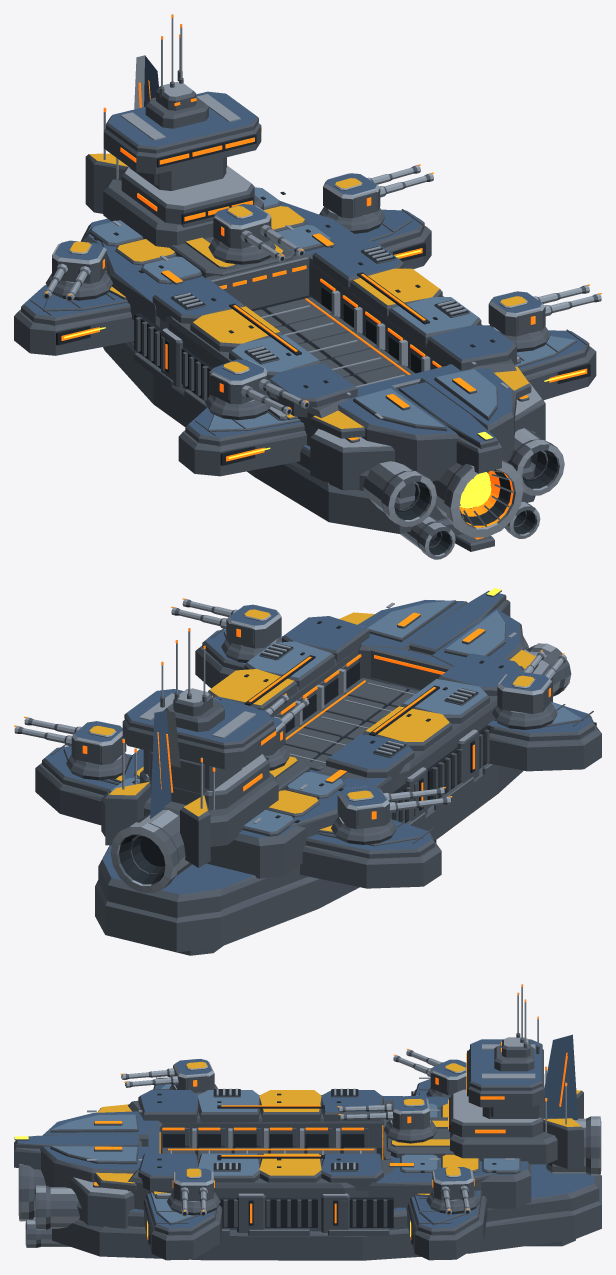
Rendered from nodriza.glb.
3 renders of one model, top to bottom at view 1: azimuth 30°, elevation 25°; view 2: azimuth 150°, elevation 25°; view 3: azimuth 270°, elevation 25°, orthographic. The views are drawn at different scales.
Parts seen in each view (by area): view 1: AEGIS_Hull, AEGIS_Turret_Aft_R, AEGIS_Turret_Forward_R, AEGIS_Turret_Aft_L, AEGIS_Turret_Centre, AEGIS_Turret_Forward_L; view 2: AEGIS_Hull, AEGIS_Turret_Forward_L, AEGIS_Turret_Aft_R, AEGIS_Turret_Forward_R, AEGIS_Turret_Aft_L, AEGIS_Turret_Centre; view 3: AEGIS_Hull, AEGIS_Turret_Centre, AEGIS_Turret_Aft_L, AEGIS_Turret_Forward_L, AEGIS_Turret_Forward_R, AEGIS_Turret_Aft_R.
Boxes of the visible parts, box(x1,y1,x2,y2) form: AEGIS_Hull: box(14, 14, 596, 559); AEGIS_Turret_Aft_R: box(488, 284, 601, 336); AEGIS_Turret_Forward_R: box(323, 164, 433, 218); AEGIS_Turret_Aft_L: box(210, 359, 309, 415); AEGIS_Turret_Centre: box(213, 204, 304, 262); AEGIS_Turret_Forward_L: box(43, 240, 106, 301); AEGIS_Hull: box(35, 588, 601, 955); AEGIS_Turret_Forward_L: box(337, 786, 452, 829); AEGIS_Turret_Aft_R: box(171, 598, 281, 648); AEGIS_Turret_Forward_R: box(14, 716, 126, 764); AEGIS_Turret_Aft_L: box(497, 650, 566, 713); AEGIS_Turret_Centre: box(263, 693, 309, 755); AEGIS_Hull: box(14, 984, 601, 1260); AEGIS_Turret_Centre: box(337, 1095, 429, 1129); AEGIS_Turret_Aft_L: box(120, 1059, 214, 1092); AEGIS_Turret_Forward_L: box(393, 1048, 466, 1095); AEGIS_Turret_Forward_R: box(432, 1167, 474, 1215); AEGIS_Turret_Aft_R: box(172, 1168, 214, 1216).
Bounding box in the file's own units: 9.7 × 6.8 × 14.75.
1 material, 1 textured.
